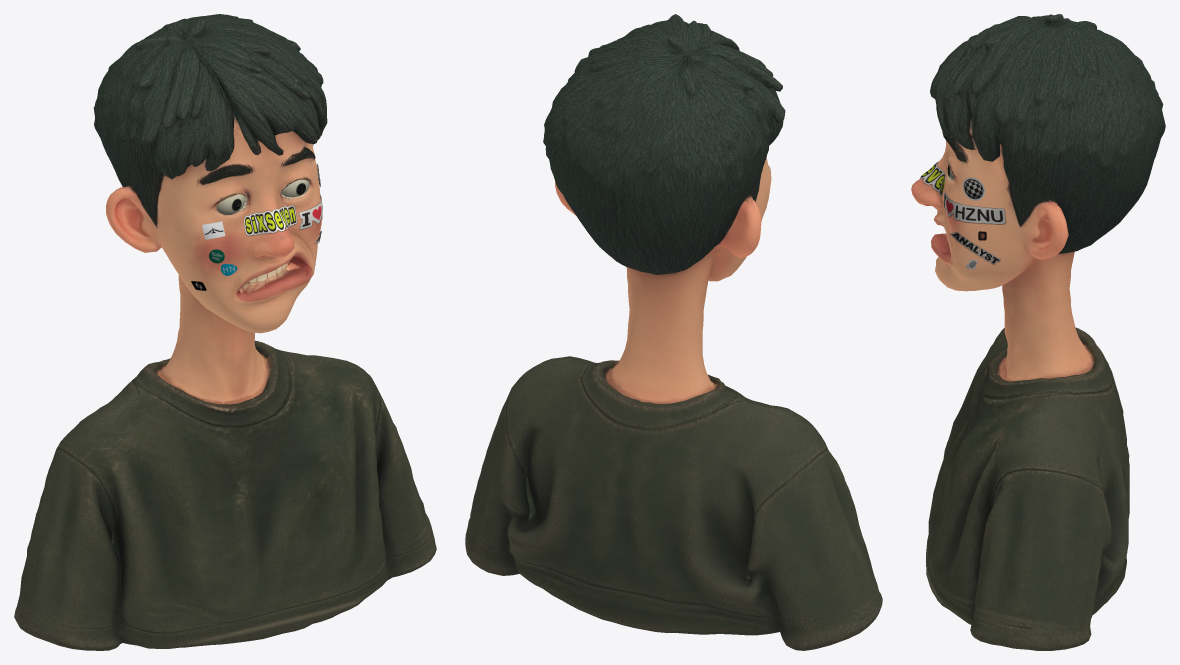
3 views of the same model, side by side, from view 1: azimuth 30°, elevation 25°; view 2: azimuth 150°, elevation 25°; view 3: azimuth 270°, elevation 25° (orthographic). The views are drawn at different scales.
Parts seen in each view (by area): view 1: man, sticker6; view 2: man; view 3: man, sticker0, sticker6, sticker1, sticker9.
Part boxes in pixels (x1,y1,x2,y2): man: (14,14,436,650); sticker6: (244,205,297,235); man: (465,14,882,650); man: (911,14,1165,650); sticker0: (943,190,1006,224); sticker6: (920,161,945,196); sticker1: (950,232,1000,264); sticker9: (962,177,984,200).
Bounding box in the file's own units: 1.39 × 1.91 × 0.7984.
Materials: 6 (6 with a texture image).
